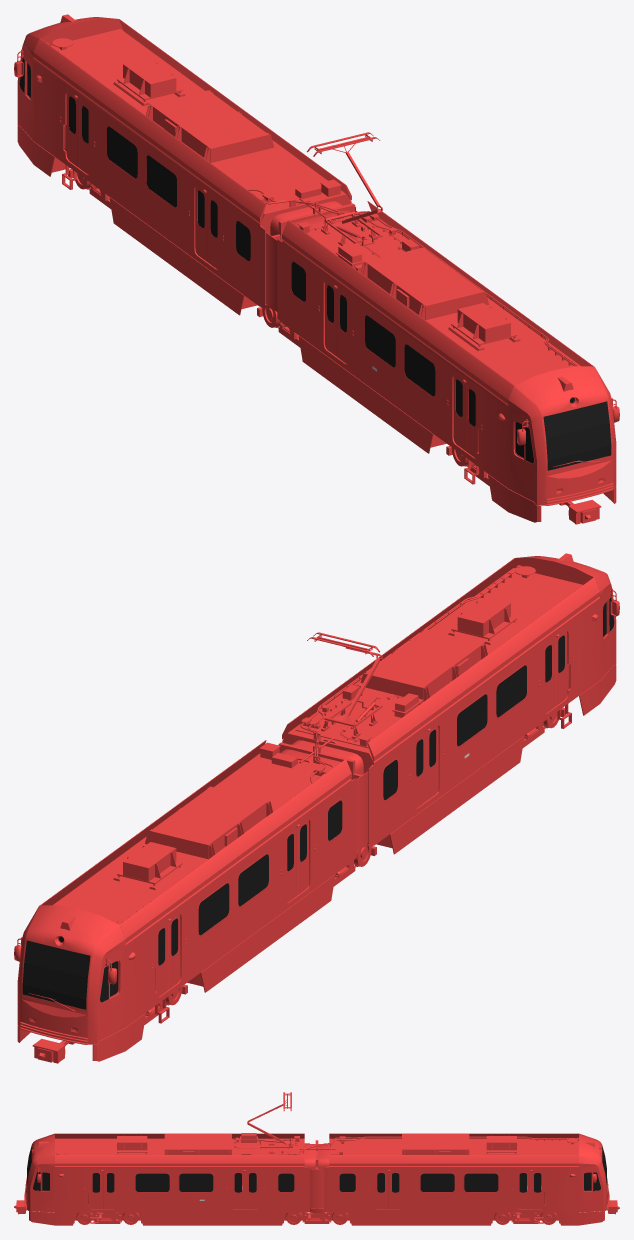
File: train3.glb
3 views of the same model, one above another, from view 1: azimuth 30°, elevation 25°; view 2: azimuth 150°, elevation 25°; view 3: azimuth 270°, elevation 25° (orthographic). The views are drawn at different scales.
Parts seen in each view (by area): view 1: Body_1, Body_2, gl_2, gl_1, Center_Section, dl_6, dl_8, dr_7, dr_5; view 2: Body_2, Body_1, gl_1, gl_2, Center_Section, dr_5, dr_7, dl_6, dl_8; view 3: Body_1, Body_2, gl_2, gl_1, dr_2, dl_4, dr_3, dl_1, Center_Section, Bogie_1, Bogie_2, Bogie_3 (+4 smaller).
Part boxes in pixels (bbox=[...]): Body_1: bbox=[277, 132, 619, 524]; Body_2: bbox=[14, 14, 355, 315]; gl_2: bbox=[291, 261, 611, 470]; gl_1: bbox=[19, 58, 250, 260]; Center_Section: bbox=[265, 198, 357, 311]; dl_6: bbox=[325, 281, 465, 450]; dl_8: bbox=[66, 92, 207, 261]; dr_7: bbox=[79, 100, 218, 269]; dr_5: bbox=[337, 289, 477, 457]; Body_2: bbox=[14, 740, 356, 1063]; Body_1: bbox=[282, 553, 619, 854]; gl_1: bbox=[22, 800, 342, 1009]; gl_2: bbox=[383, 597, 614, 799]; Center_Section: bbox=[278, 737, 368, 850]; dr_5: bbox=[426, 631, 567, 800]; dr_7: bbox=[168, 820, 308, 989]; dl_6: bbox=[415, 639, 554, 808]; dl_8: bbox=[156, 828, 296, 996]; Body_1: bbox=[14, 1092, 316, 1225]; Body_2: bbox=[317, 1133, 619, 1225]; gl_2: bbox=[27, 1146, 294, 1191]; gl_1: bbox=[339, 1146, 606, 1191]; dr_2: bbox=[388, 1171, 543, 1209]; dl_4: bbox=[90, 1171, 245, 1209]; dr_3: bbox=[103, 1171, 258, 1209]; dl_1: bbox=[375, 1171, 530, 1209]; Center_Section: bbox=[298, 1140, 335, 1209]; Bogie_1: bbox=[283, 1208, 350, 1223]; Bogie_2: bbox=[74, 1212, 141, 1223]; Bogie_3: bbox=[492, 1212, 559, 1223].
Size of the model in its own units: 2922 by 5927 by 27515.
